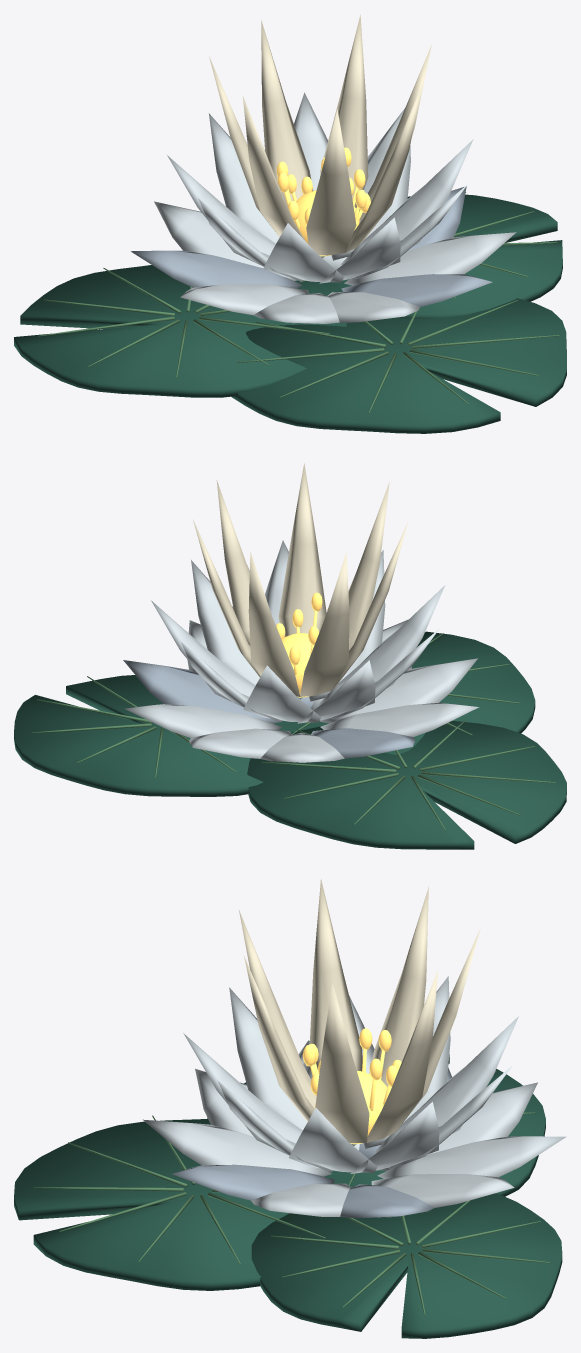
The model's file is SM_SP_StarLily_01.fbx.
The picture shows the model from 3 angles, top to bottom: view 1: azimuth 30°, elevation 25°; view 2: azimuth 150°, elevation 25°; view 3: azimuth 270°, elevation 25°; orthographic projection. The views are drawn at different scales.
Parts seen in each view (by area): view 1: SM_SP_StarLily_01; view 2: SM_SP_StarLily_01; view 3: SM_SP_StarLily_01.
Part boxes in pixels (<box>): SM_SP_StarLily_01: <box>14,14,566,433</box>; SM_SP_StarLily_01: <box>14,463,566,849</box>; SM_SP_StarLily_01: <box>14,879,566,1338</box>.
Bounding box in the file's own units: 0.94 × 0.7796 × 0.4354.
